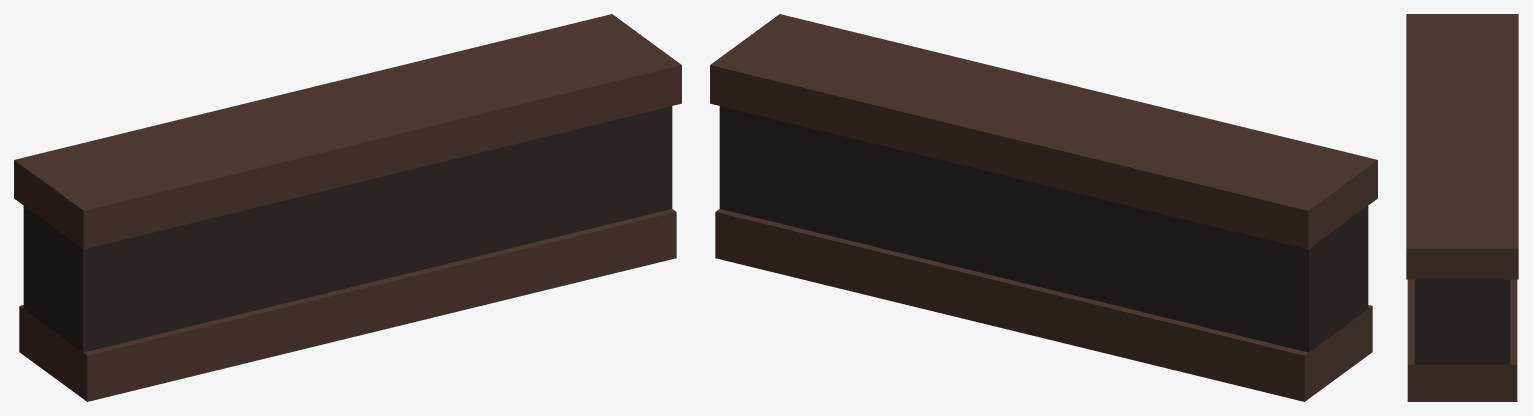
The model's file is wall_low_4m.glb.
The picture shows the model from 3 angles, left to right: view 1: azimuth 30°, elevation 25°; view 2: azimuth 150°, elevation 25°; view 3: azimuth 270°, elevation 25°; orthographic projection. The views are drawn at different scales.
Visible parts, largest first — view 1: wall_low_4m; view 2: wall_low_4m; view 3: wall_low_4m.
Boxes of the visible parts, x1=… form: wall_low_4m: x1=14, y1=14, x2=681, y2=401; wall_low_4m: x1=710, y1=14, x2=1377, y2=401; wall_low_4m: x1=1406, y1=14, x2=1518, y2=401.
Bounding box in the file's own units: 4.06 × 1.25 × 0.82.
